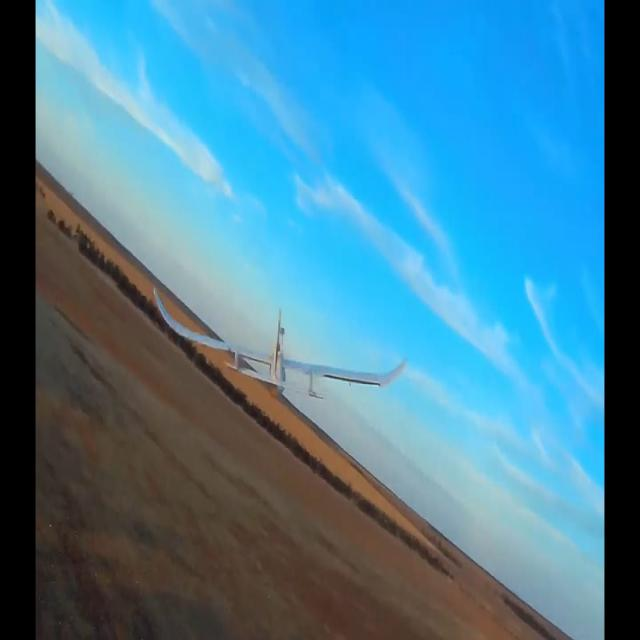iha: (152, 314, 407, 372)
